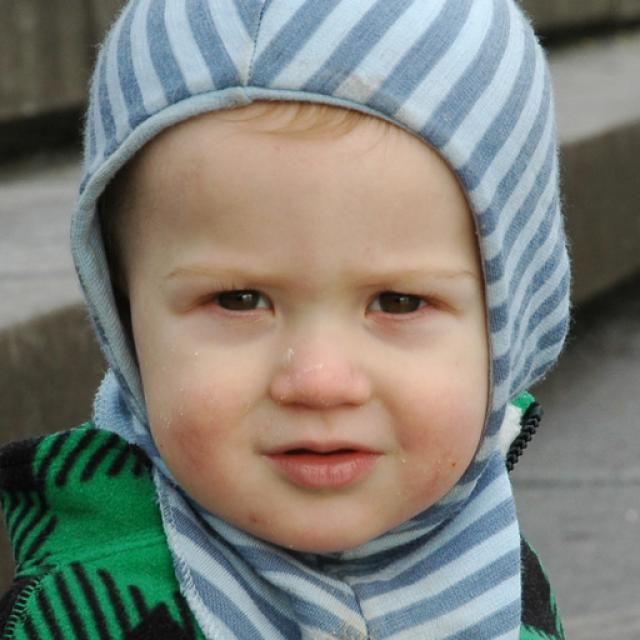happy: (133, 103, 490, 552)
